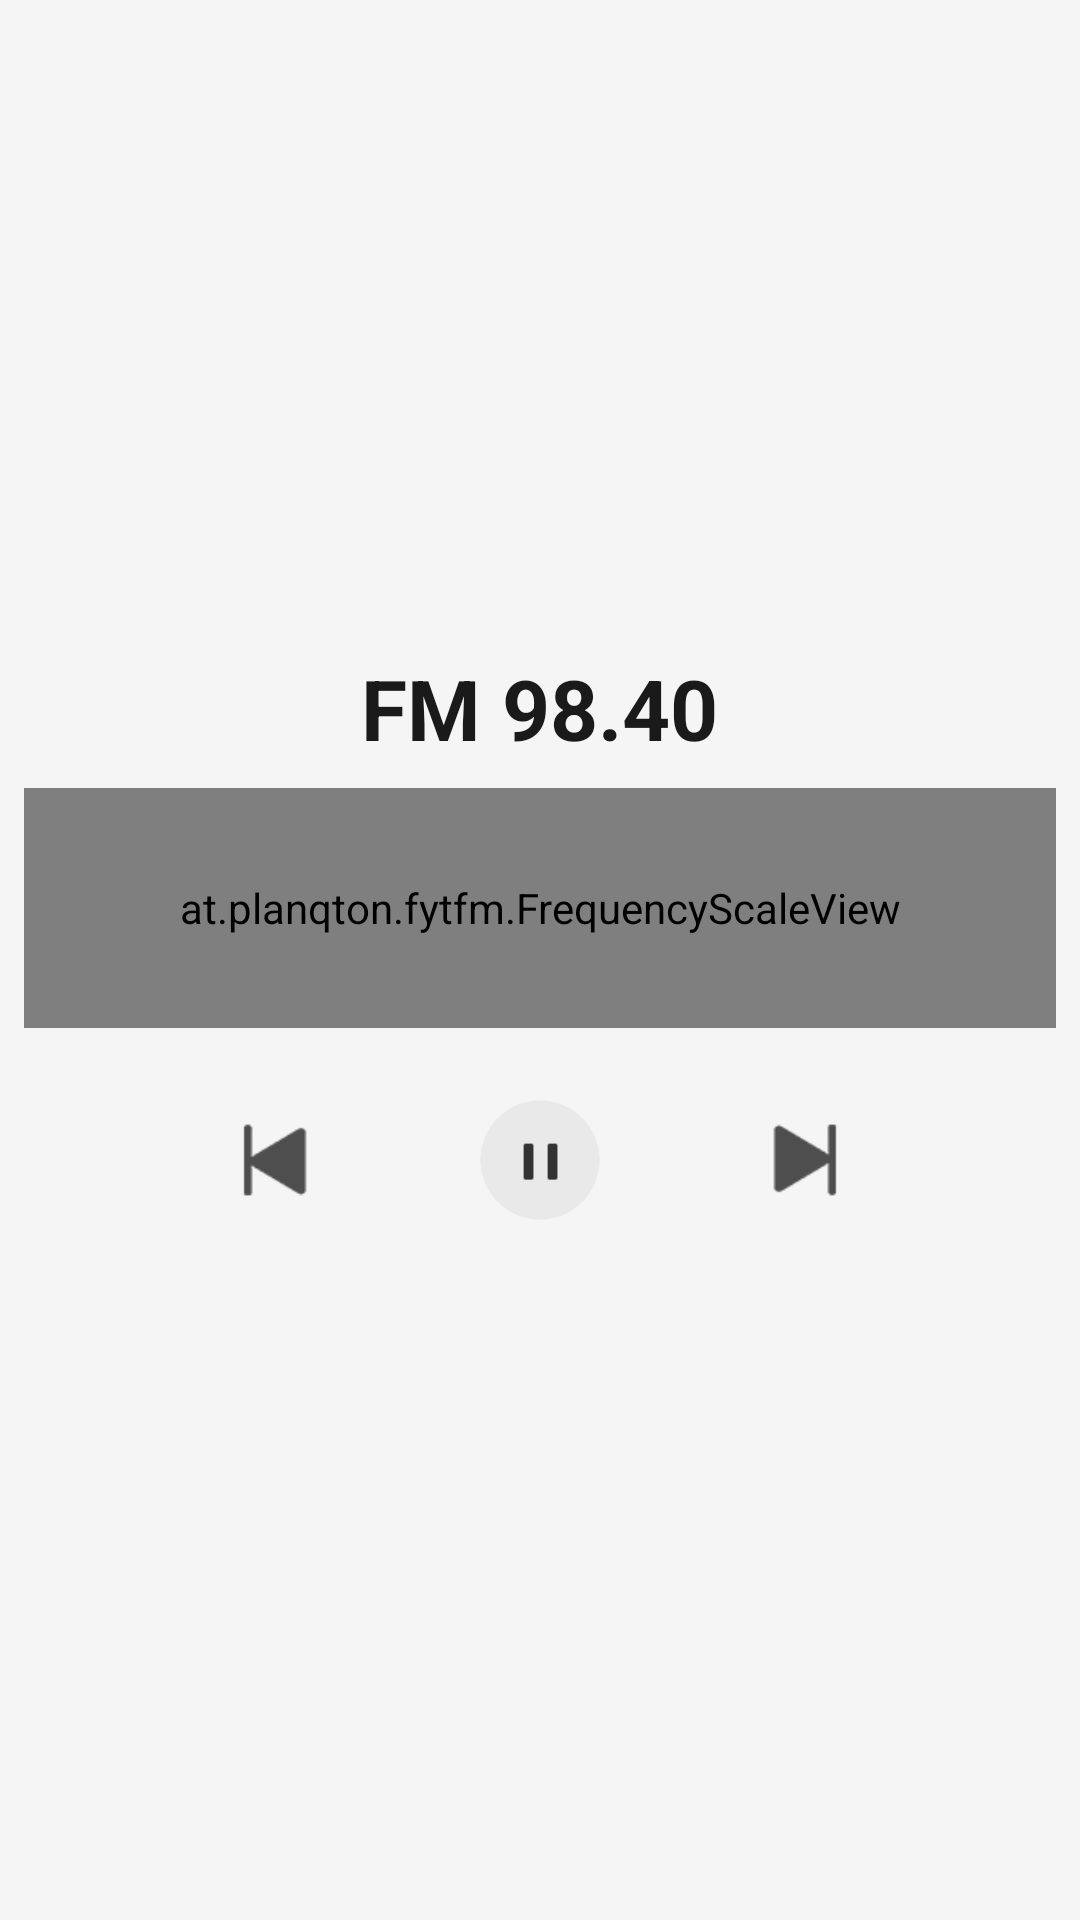

Icon click points for this 1080w x 1920h phone screenshot, format (x=x, y=y):
pause: (x=540, y=1161)
skip next: (x=805, y=1160)
skip previous: (x=275, y=1160)
